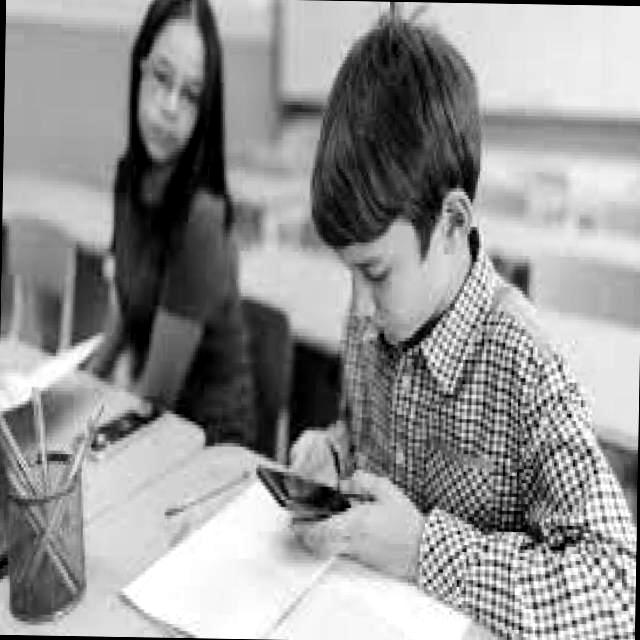phone: (253, 460, 351, 518)
